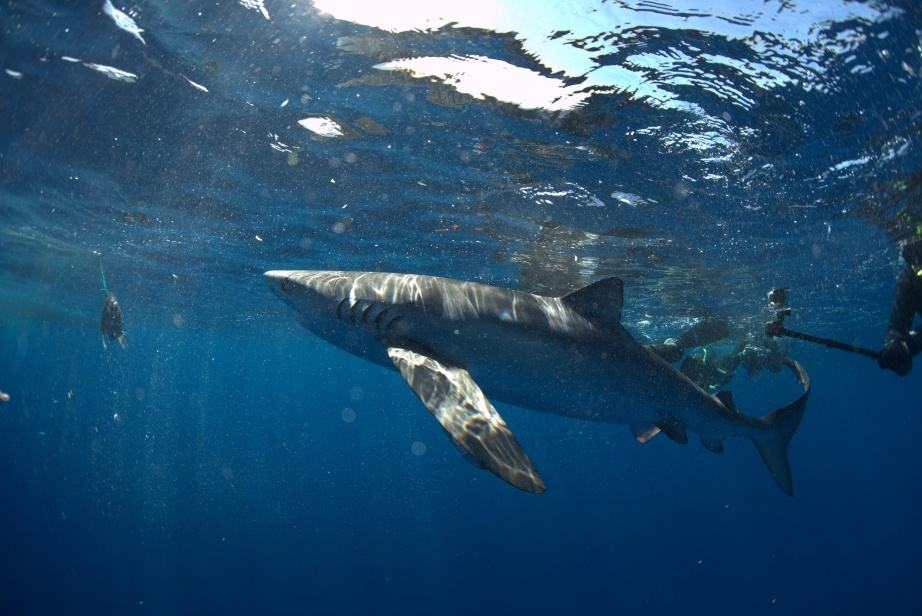Azul: (177, 192, 838, 555)
